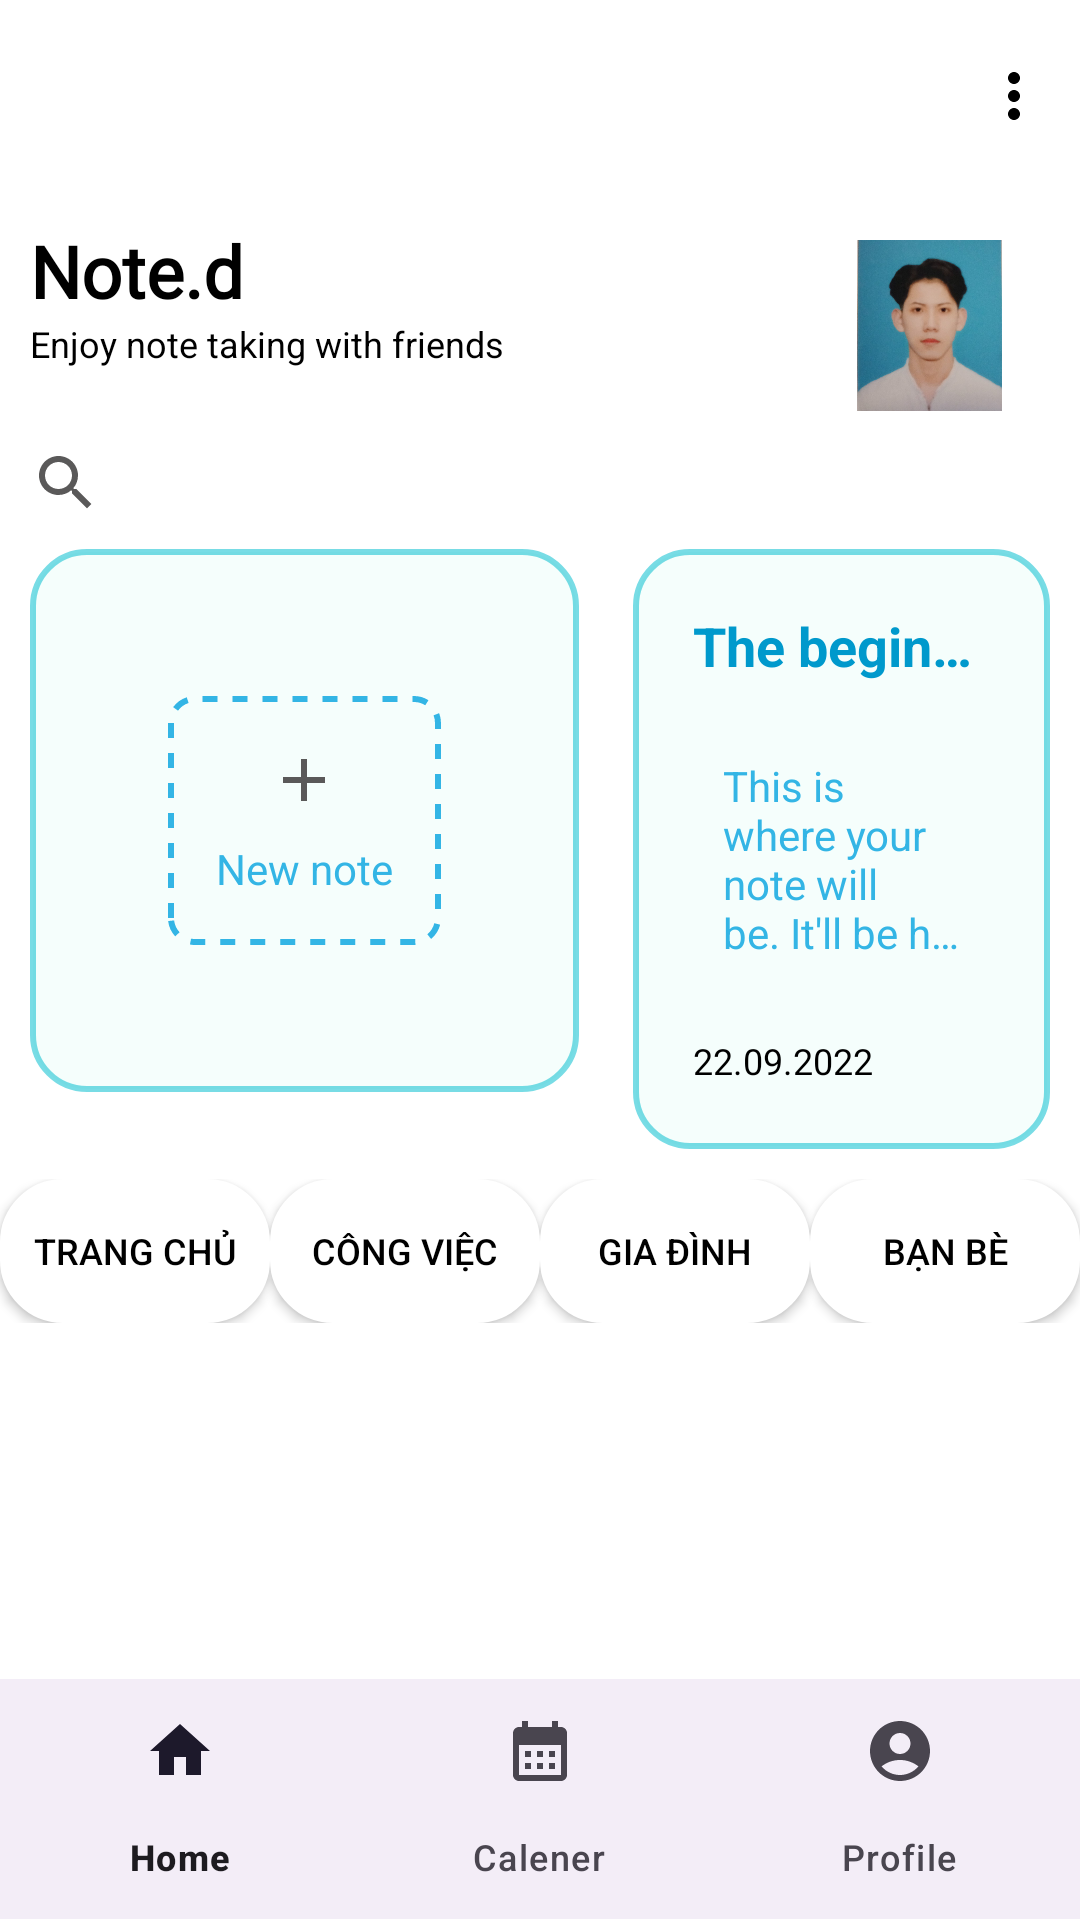

Point at icon controls on the screen. Image size 1080 × 1920, points as (x=x, y=y).
add: (x=304, y=780)
search: (x=65, y=482)
